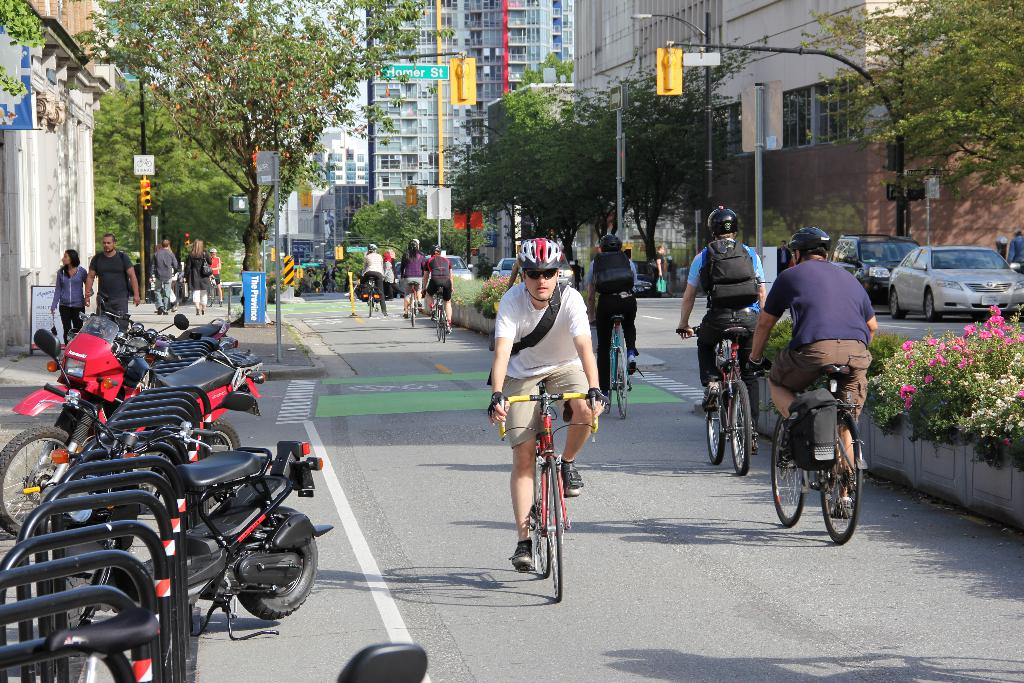Bike_away: (743, 349, 886, 547), (673, 318, 770, 479), (586, 304, 653, 421), (421, 278, 461, 346), (398, 275, 424, 327)
Bike_toward: (491, 385, 609, 605)
